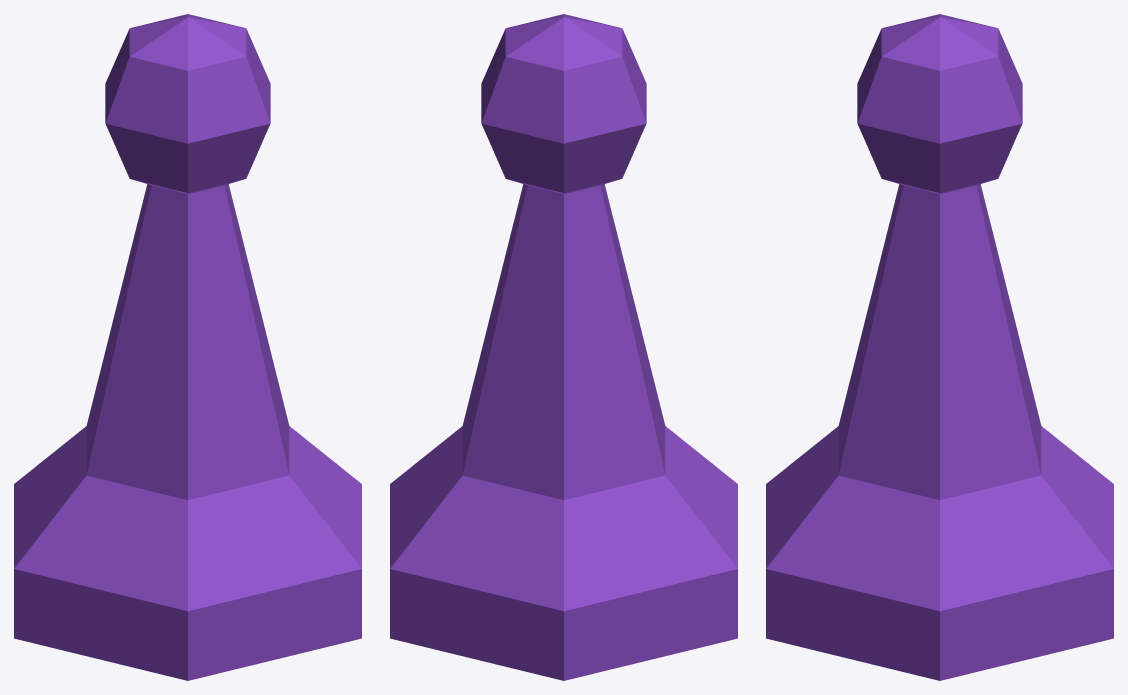
The model's file is Boardgame_Token_Purple_01.fbx.
3 renders of one model, left to right at view 1: azimuth 30°, elevation 25°; view 2: azimuth 150°, elevation 25°; view 3: azimuth 270°, elevation 25°, orthographic.
Parts seen in each view (by area): view 1: Boardgame_Token_Purple_01; view 2: Boardgame_Token_Purple_01; view 3: Boardgame_Token_Purple_01.
Part boxes in pixels (x1,y1,x2,y2): Boardgame_Token_Purple_01: [14, 14, 361, 680]; Boardgame_Token_Purple_01: [390, 14, 737, 680]; Boardgame_Token_Purple_01: [766, 14, 1113, 680].
Size of the model in its own units: 957 by 1523 by 829.
